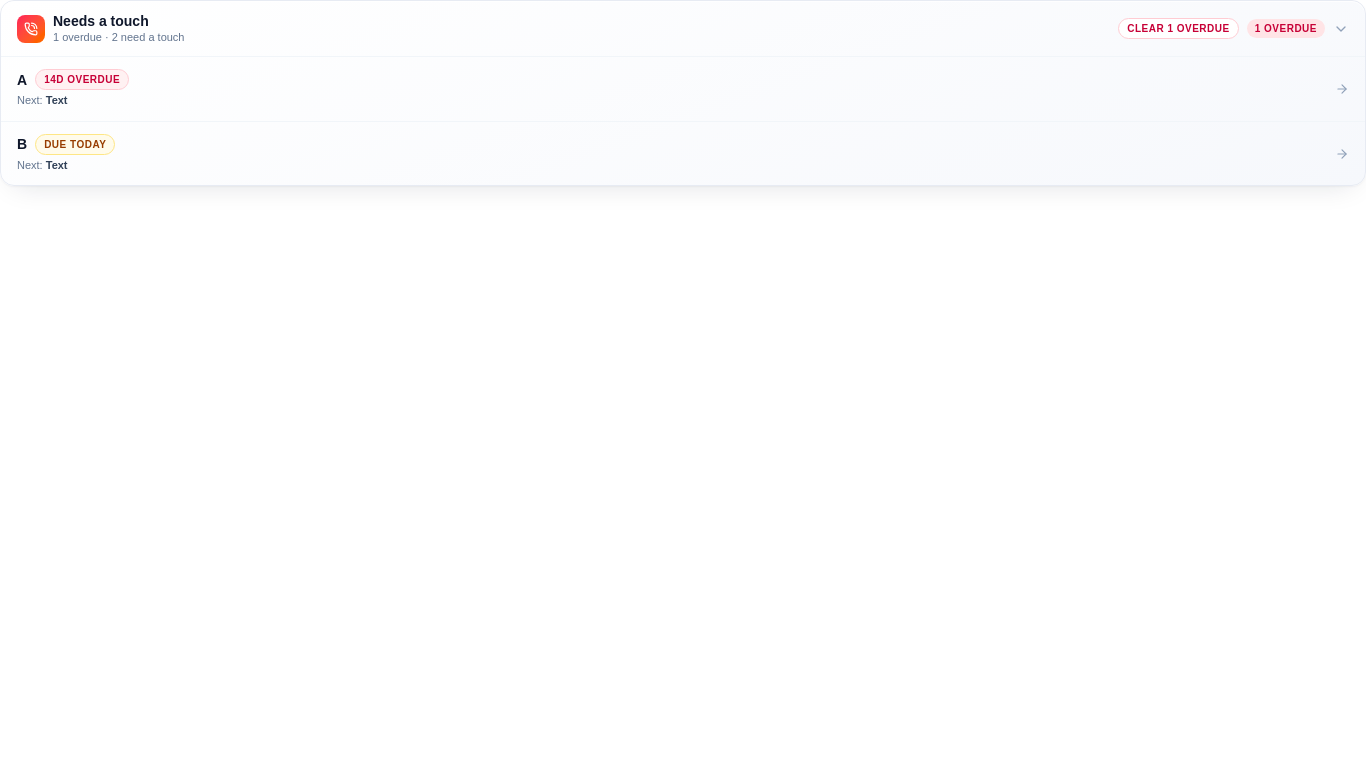
Test: clicking the bulk button opens the modal without collapsing or expanding the widget
Step 1. Click the button "Clear 1 overdue" → click(1178, 29), box [1118,18,1239,39]
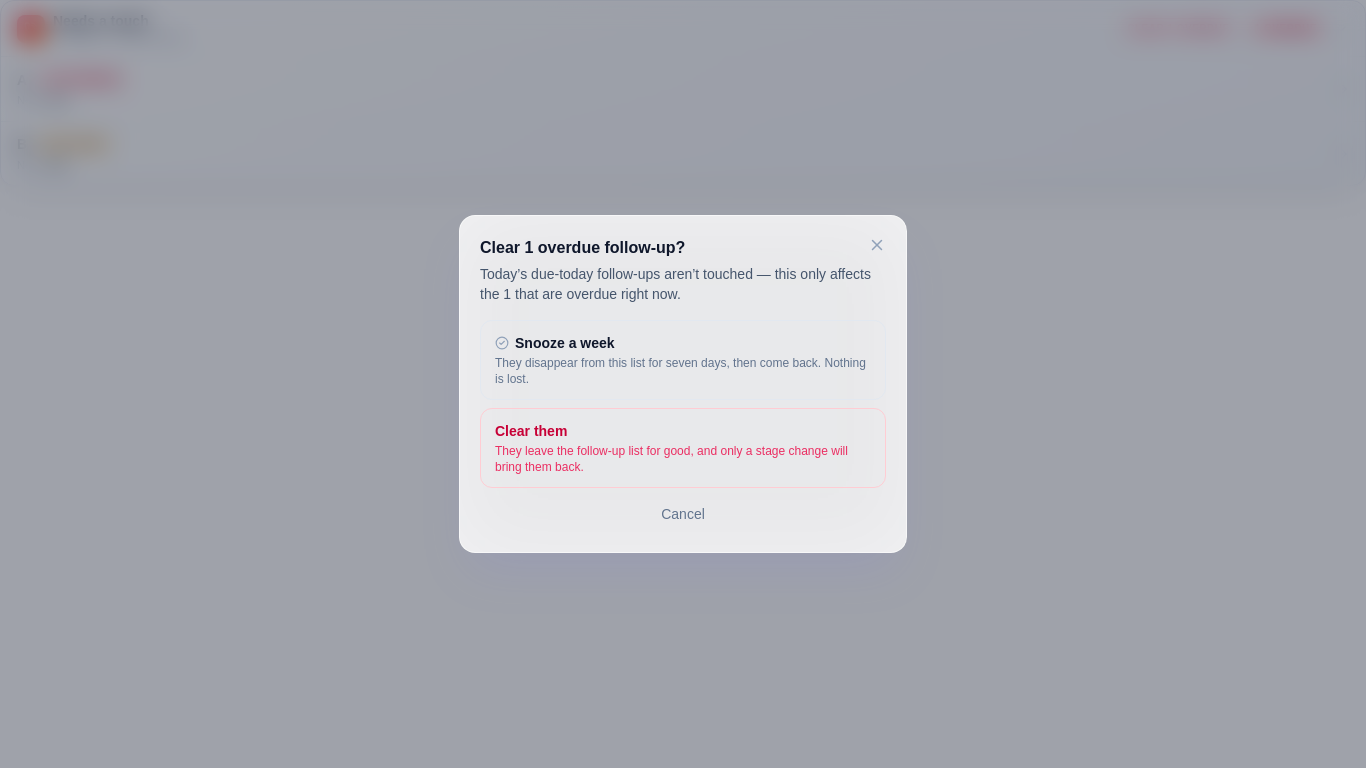
Now the text "Snooze a week" is shown, box [495,335,615,351]
